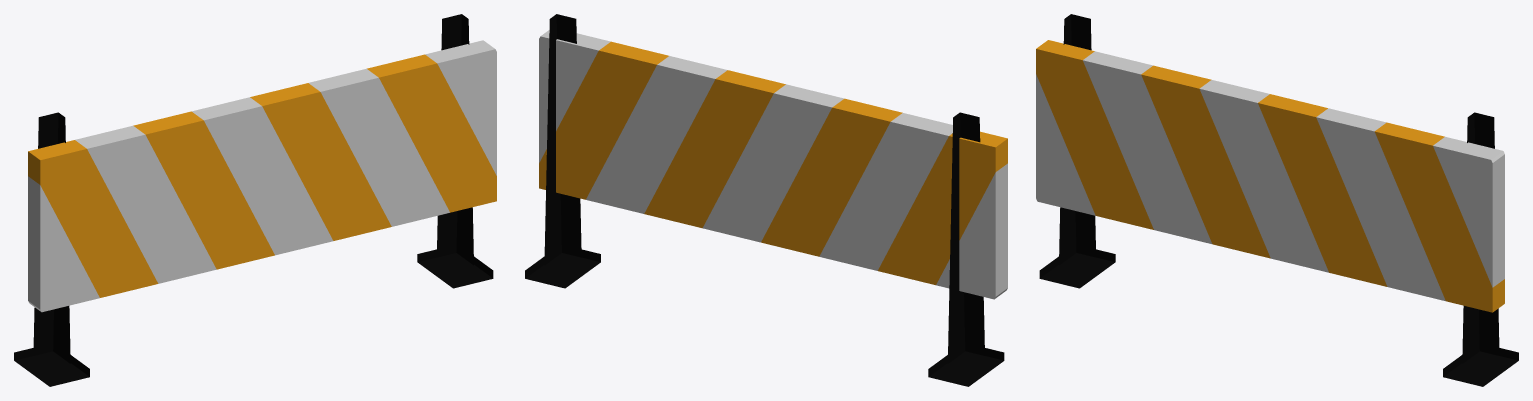
The model's file is road-block.glb.
3 views of the same model, side by side, from view 1: azimuth 30°, elevation 25°; view 2: azimuth 150°, elevation 25°; view 3: azimuth 330°, elevation 25° (orthographic).
Visible parts, largest first — view 1: Cube001_Material001_0_2, Cube001_Material001_0_1, Cube001_Material001_0; view 2: Cube001_Material001_0_2, Cube001_Material001_0_1, Cube001_Material001_0; view 3: Cube001_Material001_0_2, Cube001_Material001_0_1, Cube001_Material001_0.
Boxes of the visible parts, bbox=[...] form: Cube001_Material001_0_2: bbox=[28, 40, 496, 312]; Cube001_Material001_0_1: bbox=[28, 54, 496, 297]; Cube001_Material001_0: bbox=[14, 14, 493, 386]; Cube001_Material001_0_2: bbox=[539, 30, 1007, 299]; Cube001_Material001_0_1: bbox=[539, 41, 1007, 285]; Cube001_Material001_0: bbox=[525, 14, 1004, 386]; Cube001_Material001_0_2: bbox=[1036, 51, 1504, 301]; Cube001_Material001_0_1: bbox=[1036, 40, 1504, 312]; Cube001_Material001_0: bbox=[1039, 14, 1518, 386].
Size of the model in its own units: 6.27 by 3.3 by 0.8538.
